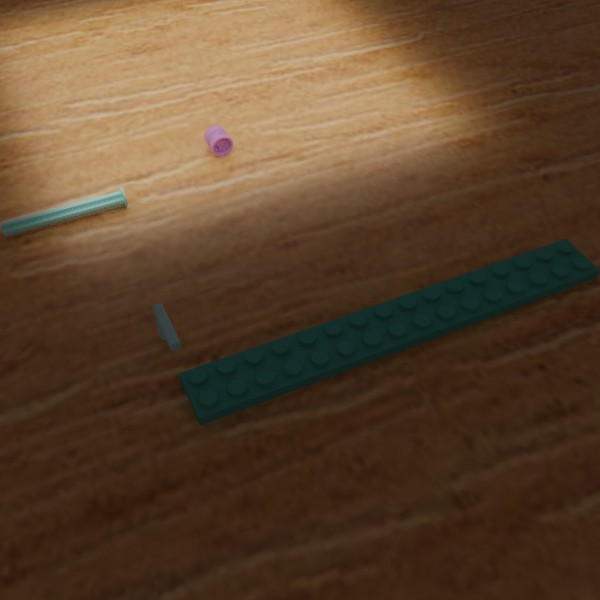lego: (178, 238, 600, 425), (0, 187, 127, 237), (152, 303, 181, 351), (204, 125, 233, 156)
